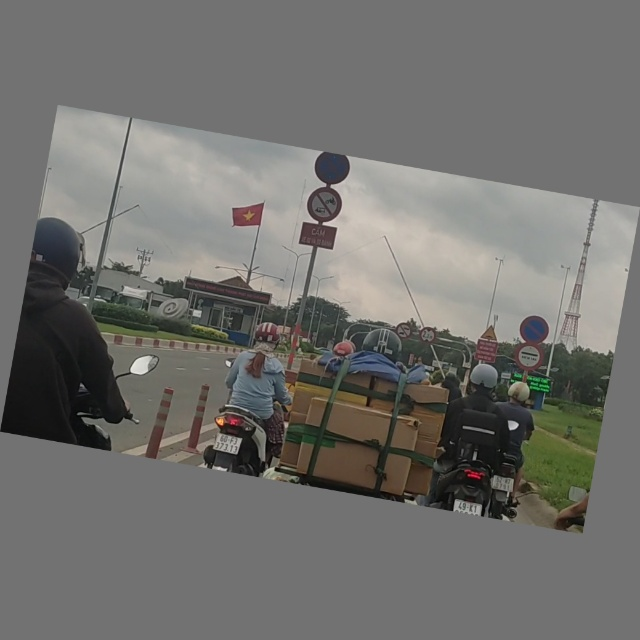P.107: (395, 322, 414, 341)
P.111: (305, 184, 345, 226)
P.117*: (418, 326, 437, 345)
P.129: (513, 342, 544, 374)
P.130: (313, 152, 352, 188)
P.131a: (518, 314, 552, 347)
W.221b: (480, 324, 500, 343)
